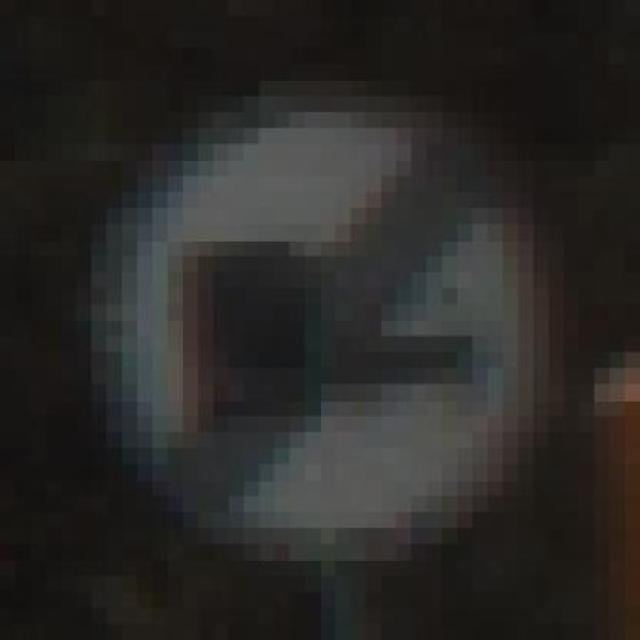Overtaking by trucks is prohibited: (61, 79, 579, 576)
